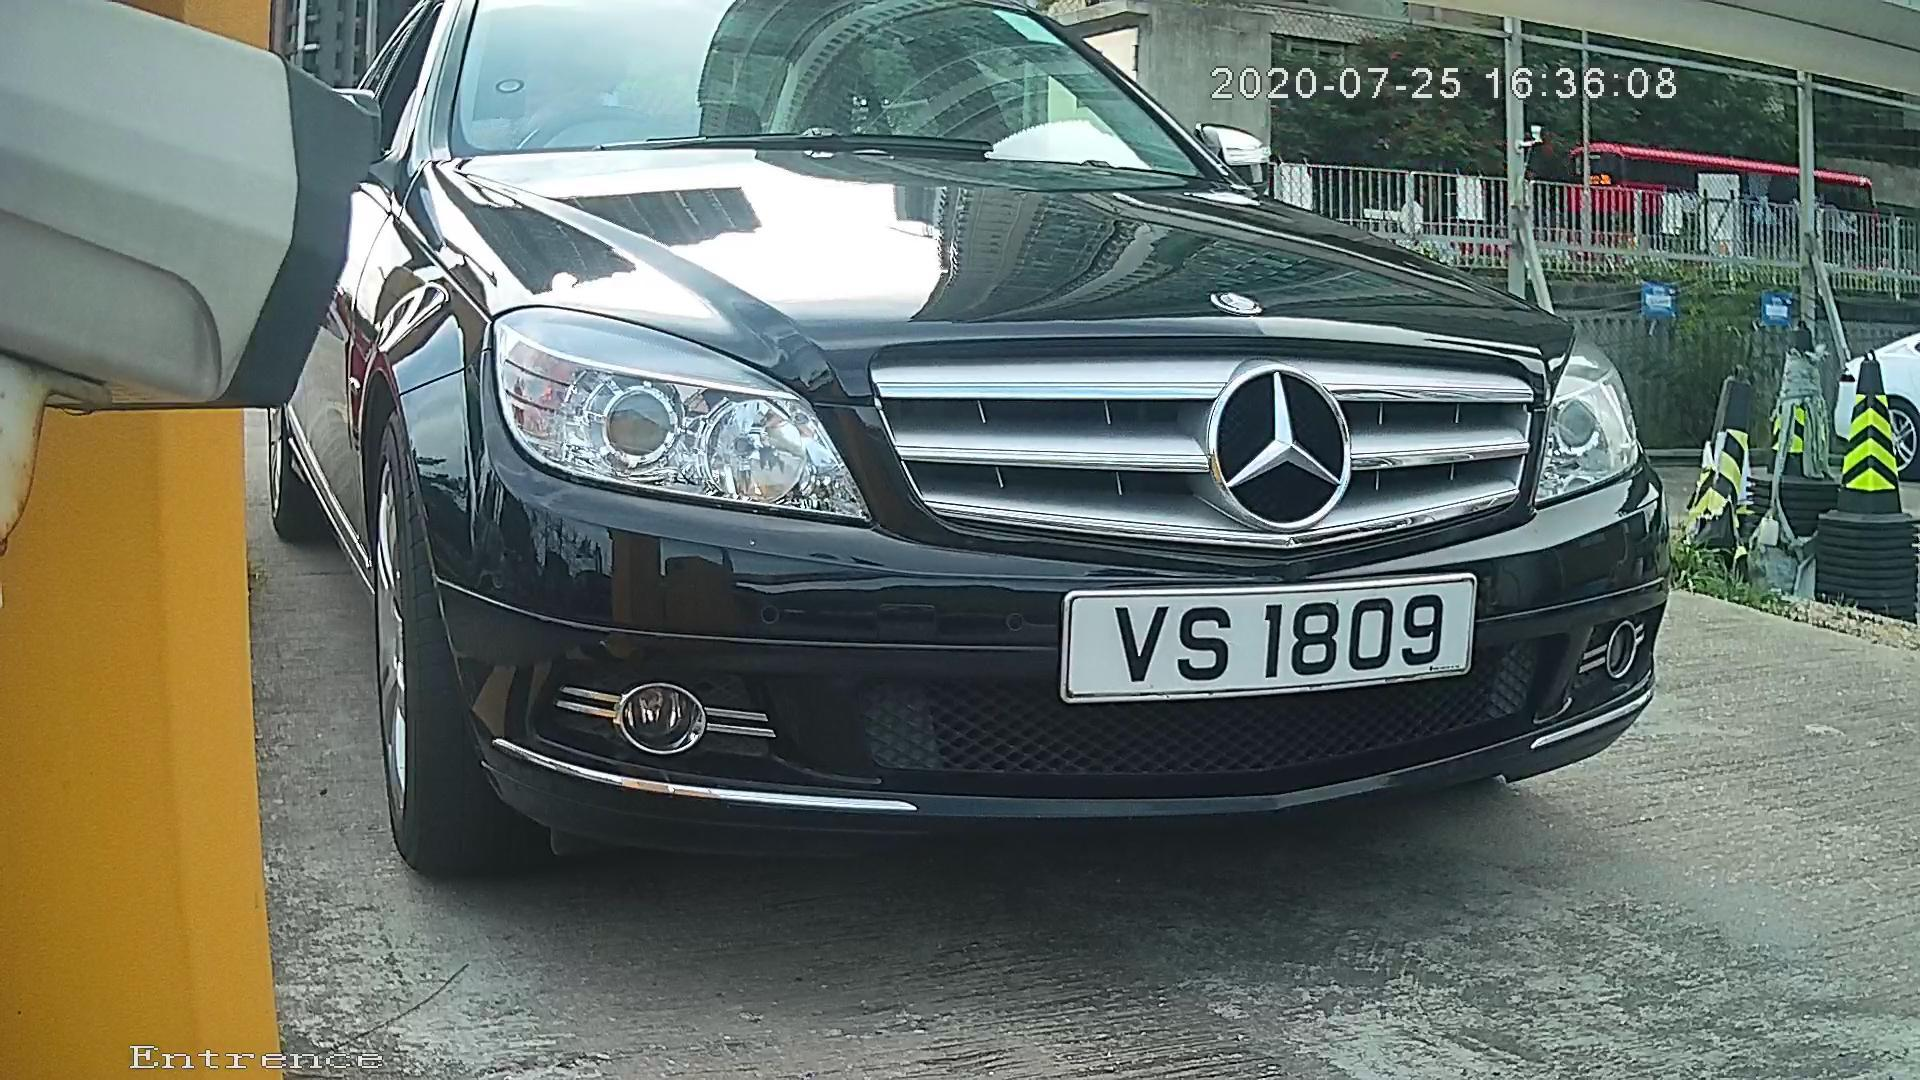privatecar: (206, 49, 1836, 920)
